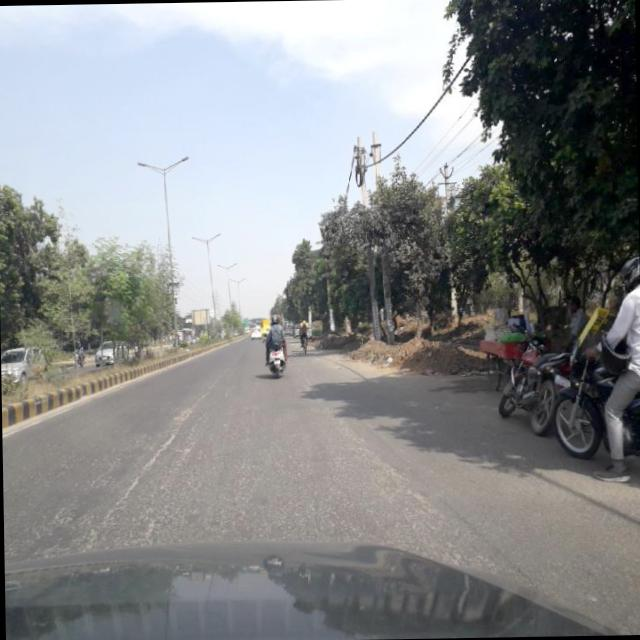crack: (156, 372, 226, 452), (88, 454, 158, 534)
